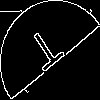T: (25, 25, 70, 80)
